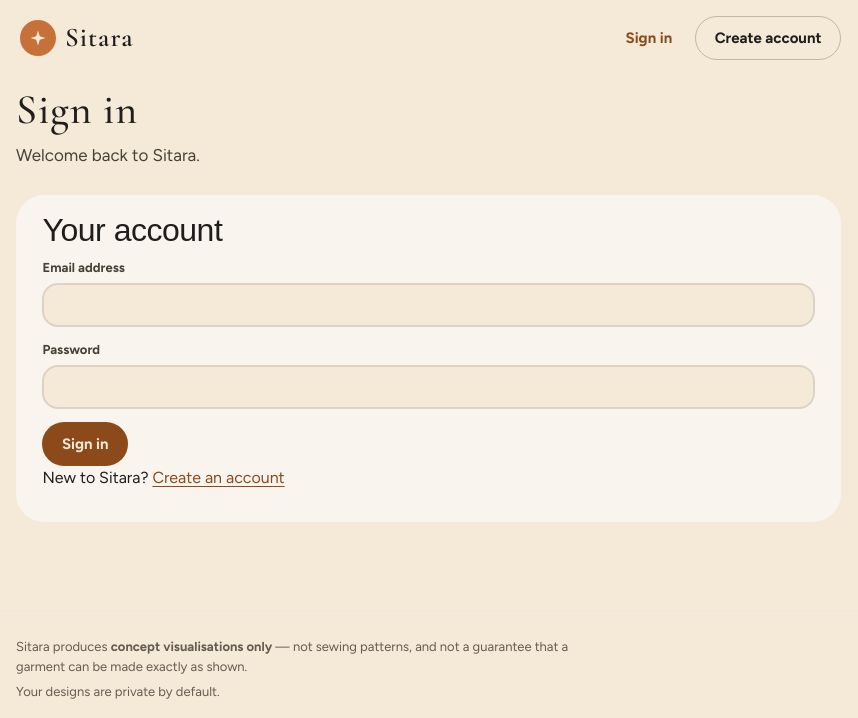
Test case: login page › shows a rate-limit specific message without technical detail
Type "bride@example.com" into the field labelled "Email address".
click(428, 305); type("bride@example.com")  # box [42,283,814,327]
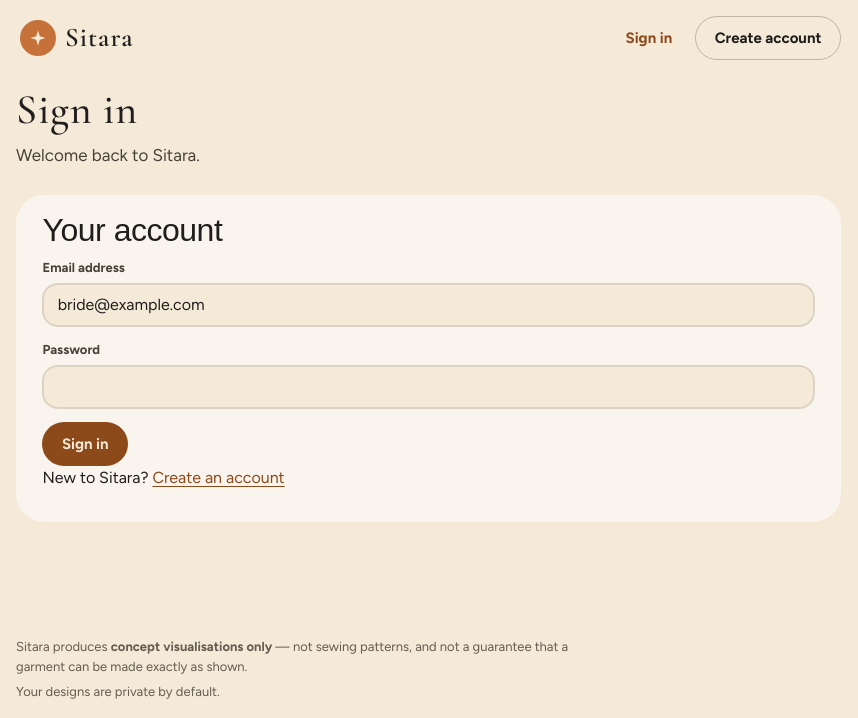
Type "Correct-Horse-Battery-2026!" into the password field labelled "Password".
click(428, 387); type("Correct-Horse-Battery-2026!")  # box [42,365,814,409]
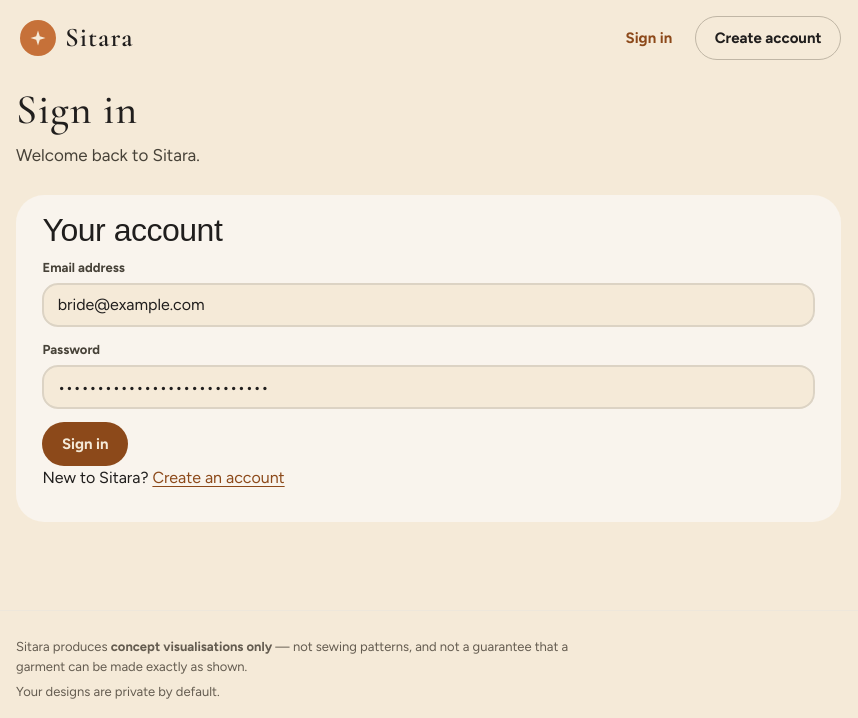
Click the button "Sign in".
click(85, 444)  # box [42,422,128,466]
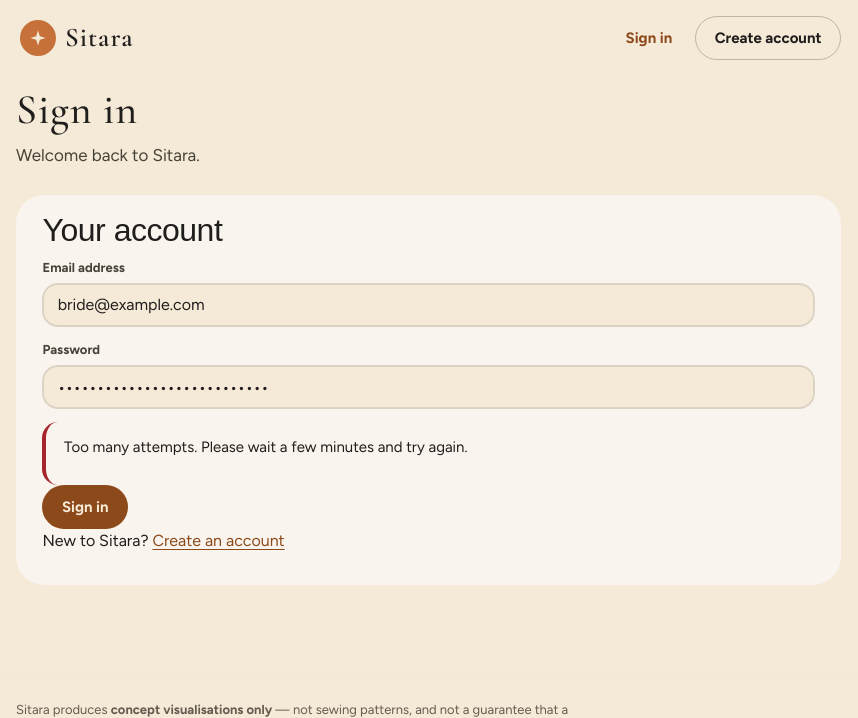
Expected: the message shows "Too many attempts", [64,438,468,456]
